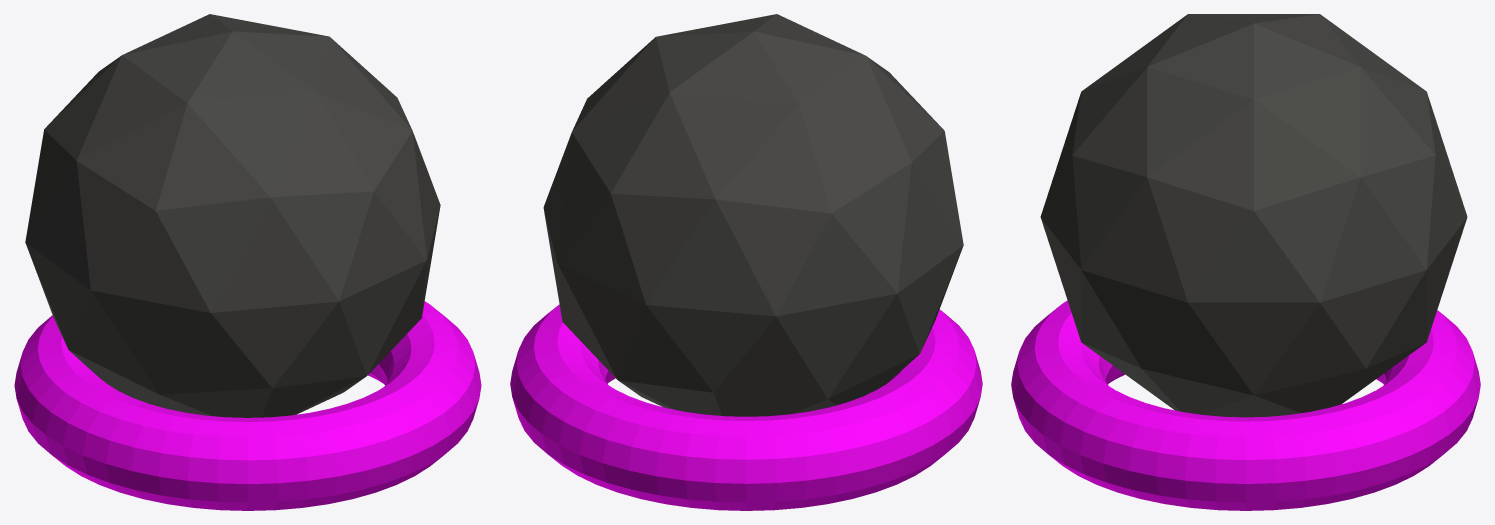
Rendered from retailerPink.glb.
The picture shows the model from 3 angles, left to right: view 1: azimuth 30°, elevation 25°; view 2: azimuth 150°, elevation 25°; view 3: azimuth 270°, elevation 25°; orthographic projection.
Parts seen in each view (by area): view 1: Icosphere.006, Torus.013; view 2: Icosphere.006, Torus.013; view 3: Icosphere.006, Torus.013.
Part boxes in pixels (bbox=[...]): Icosphere.006: bbox=[25, 14, 440, 417]; Torus.013: bbox=[14, 301, 481, 510]; Icosphere.006: bbox=[543, 14, 963, 416]; Torus.013: bbox=[510, 304, 982, 510]; Icosphere.006: bbox=[1040, 14, 1467, 417]; Torus.013: bbox=[1011, 300, 1480, 510].
Bounding box in the file's own units: 3.08 × 2.88 × 3.08.
